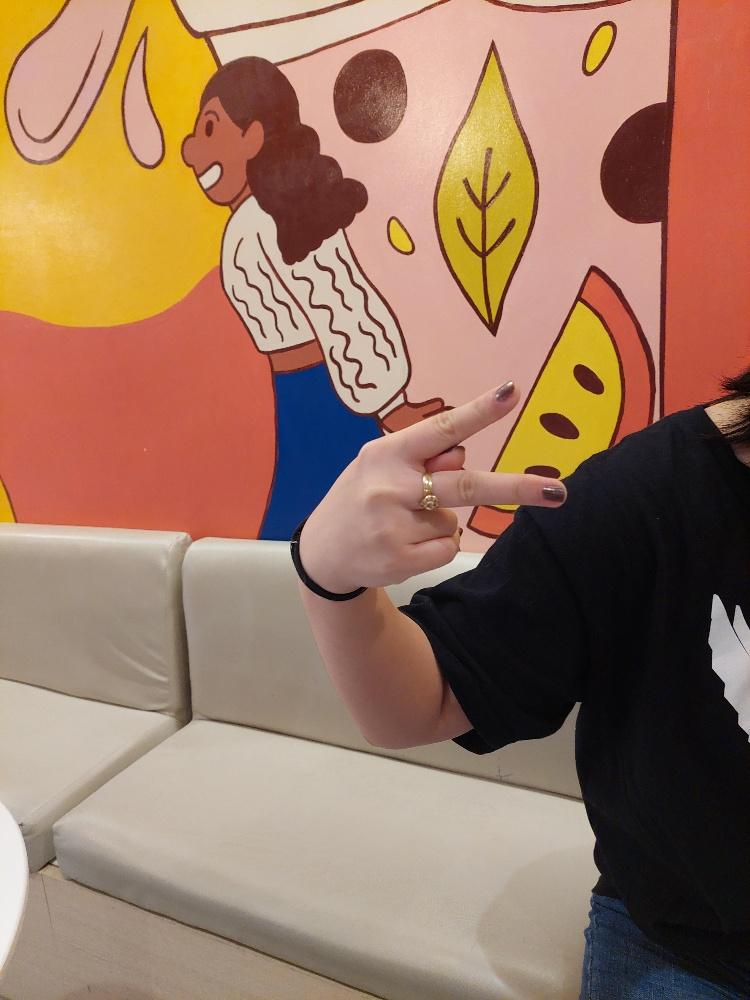k: (301, 375, 568, 589)
